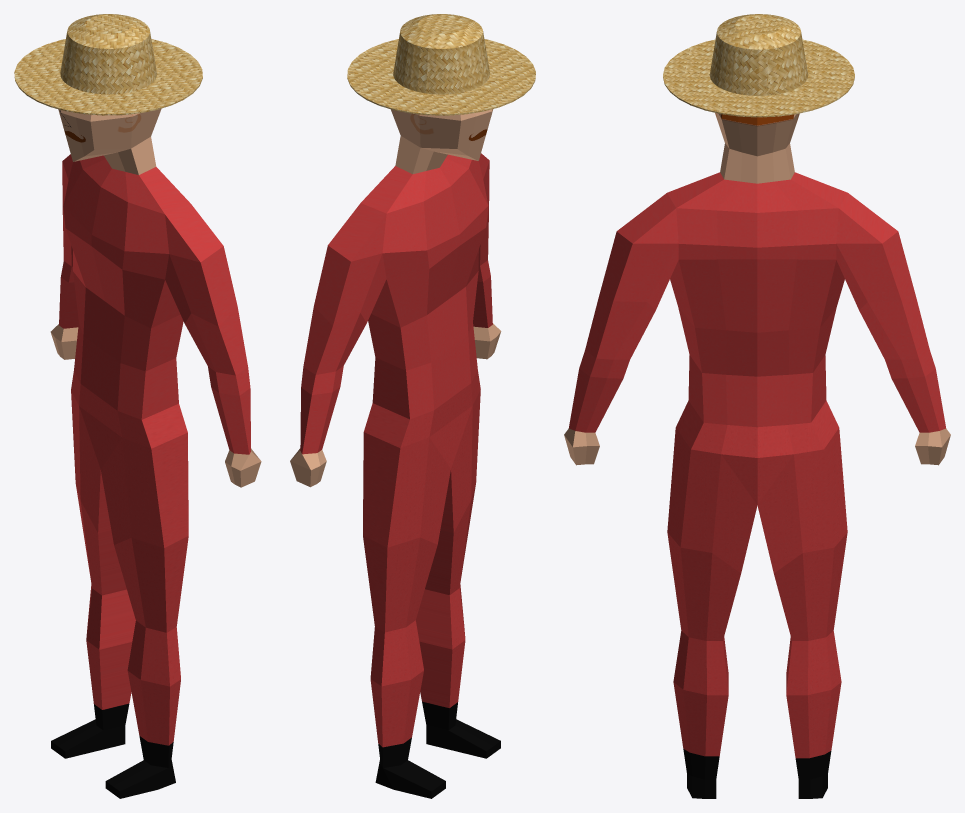
The model's file is Colono - Moreno.fbx.
3 renders of one model, left to right at view 1: azimuth 30°, elevation 25°; view 2: azimuth 150°, elevation 25°; view 3: azimuth 270°, elevation 25°, orthographic.
Parts seen in each view (by area): view 1: colono, chapeuDePalha; view 2: colono, chapeuDePalha; view 3: colono, chapeuDePalha.
Part boxes in pixels (x1,y1,x2,y2): colono: [50, 108, 261, 798]; chapeuDePalha: [14, 14, 202, 115]; colono: [290, 109, 501, 798]; chapeuDePalha: [347, 14, 535, 115]; colono: [564, 113, 950, 798]; chapeuDePalha: [663, 14, 854, 117].
Size of the model in its own units: 92.04 by 399 by 185.
